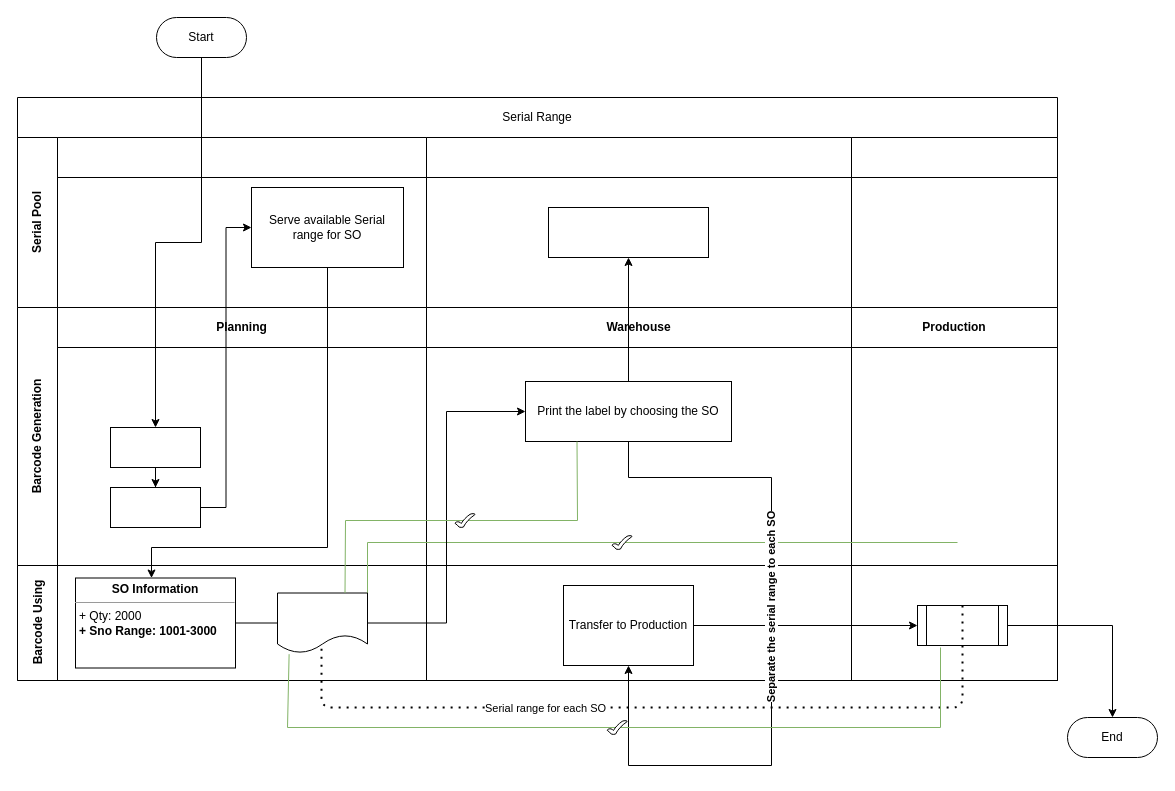
Some shapes in this 1175 by 791 pixel diagram are drawn without their labels. Each missing label, with the centre of its shape:
"Create SO" belongs at point (155, 447).
"Daily Plan" belongs at point (322, 622).
"Make the serial is used" belongs at point (628, 232).
"Map Serial Range to SO" belongs at point (155, 507).
"Naming PCB with label" belongs at point (962, 625).
